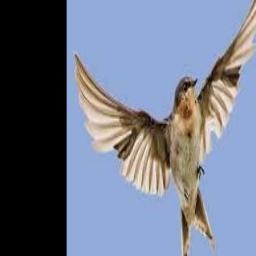Swallow: (73, 0, 256, 256)
